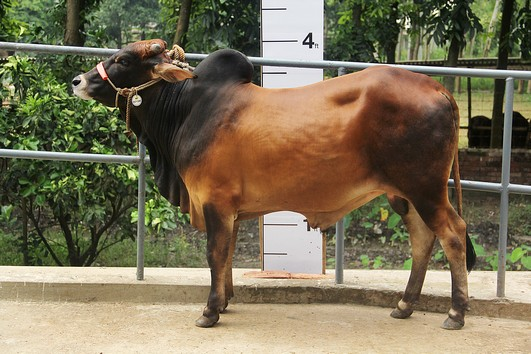cow: (65, 32, 477, 338)
